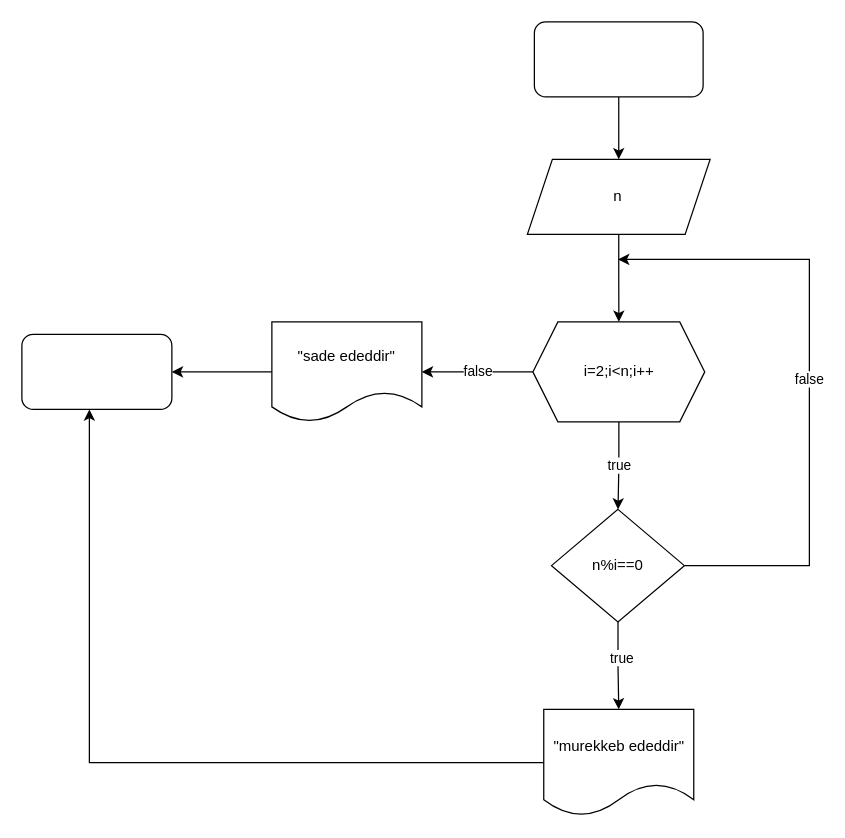
This 845x838 diagram has some shape labels left out. The shapes that lost their labels are listed below. From the top down, each one's centre as x and y in pixels, then its label:
At point 618,59: "start".
At point 96,371: "end".
